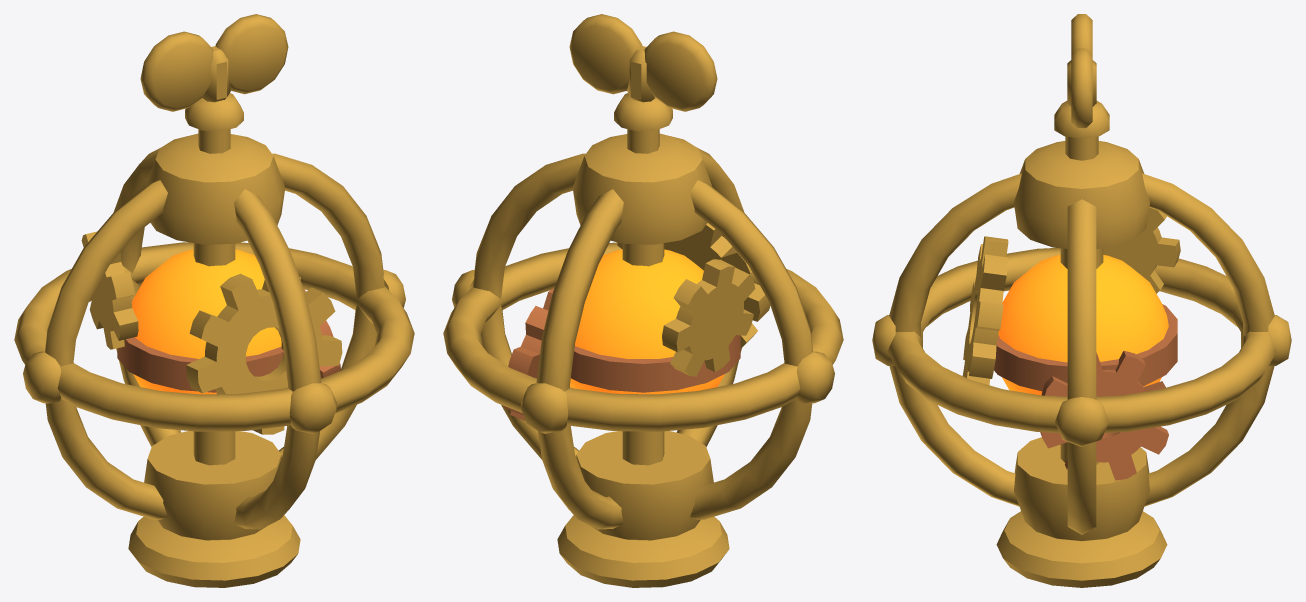
File: item_clockwork_core.glb
The picture shows the model from 3 angles, left to right: view 1: azimuth 30°, elevation 25°; view 2: azimuth 150°, elevation 25°; view 3: azimuth 270°, elevation 25°; orthographic projection.
Visible parts, largest first — view 1: ClockworkCore; view 2: ClockworkCore; view 3: ClockworkCore.
Part boxes in pixels (<box>): ClockworkCore: <box>14,14,414,587</box>; ClockworkCore: <box>443,14,843,587</box>; ClockworkCore: <box>872,14,1291,587</box>.
Bounding box in the file's own units: 0.216 × 0.2955 × 0.216.
